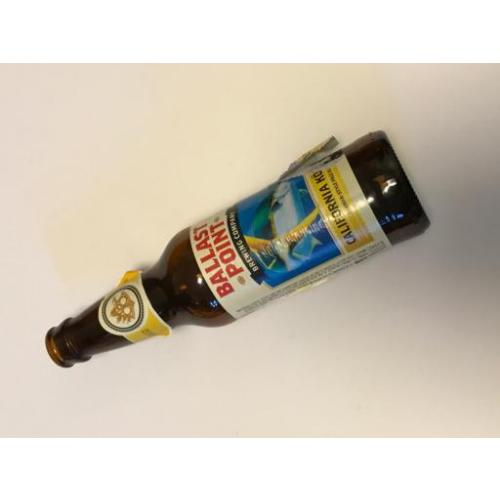glass: (58, 132, 428, 372)
